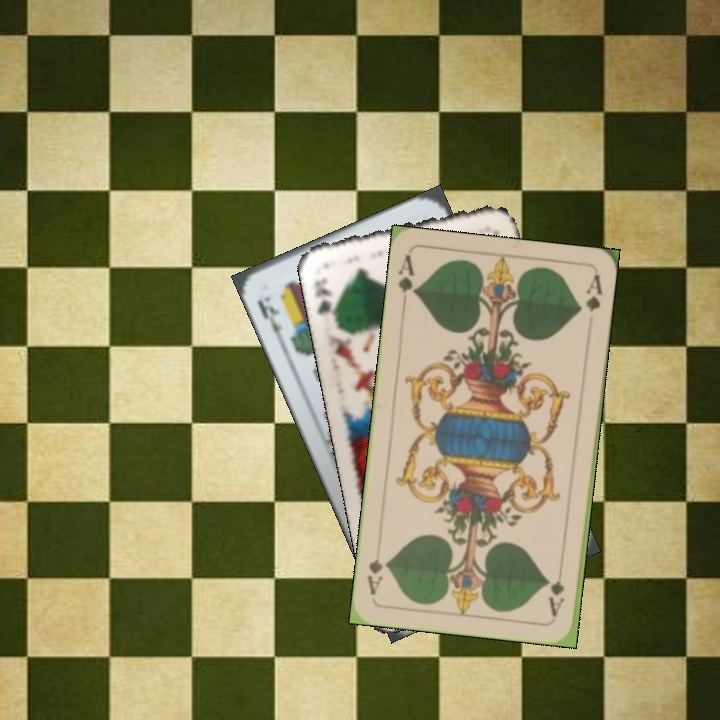EK: (253, 292, 287, 347)
GA: (394, 251, 420, 311), (545, 560, 567, 619)
GK: (309, 273, 340, 322)
